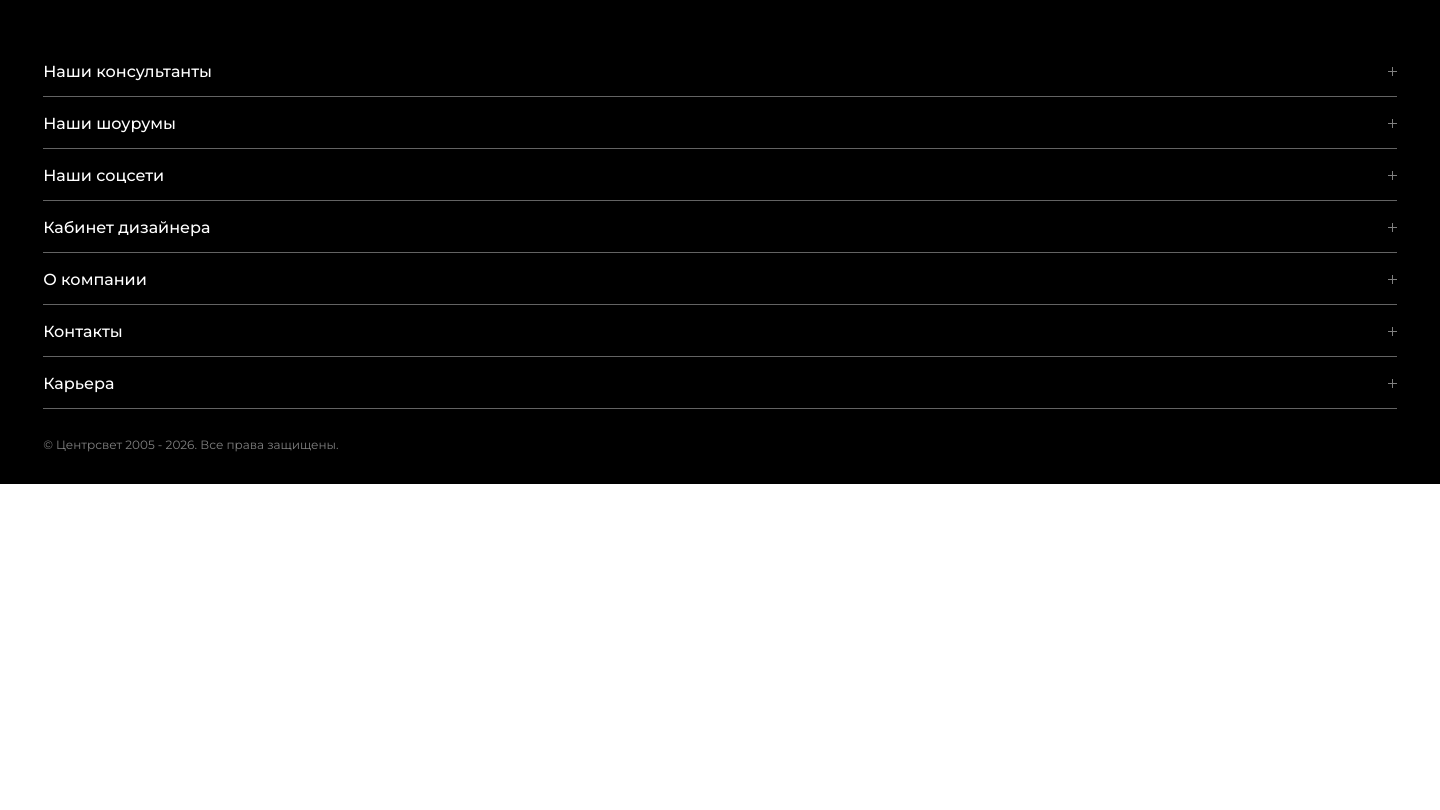
Test: SiteFooter › в разделе «Наши шоурумы» после раскрытия виден пункт «Москва»
The image size is (1440, 810).
Click the heading "Наши шоурумы": (110, 124) [43,114,176,133]
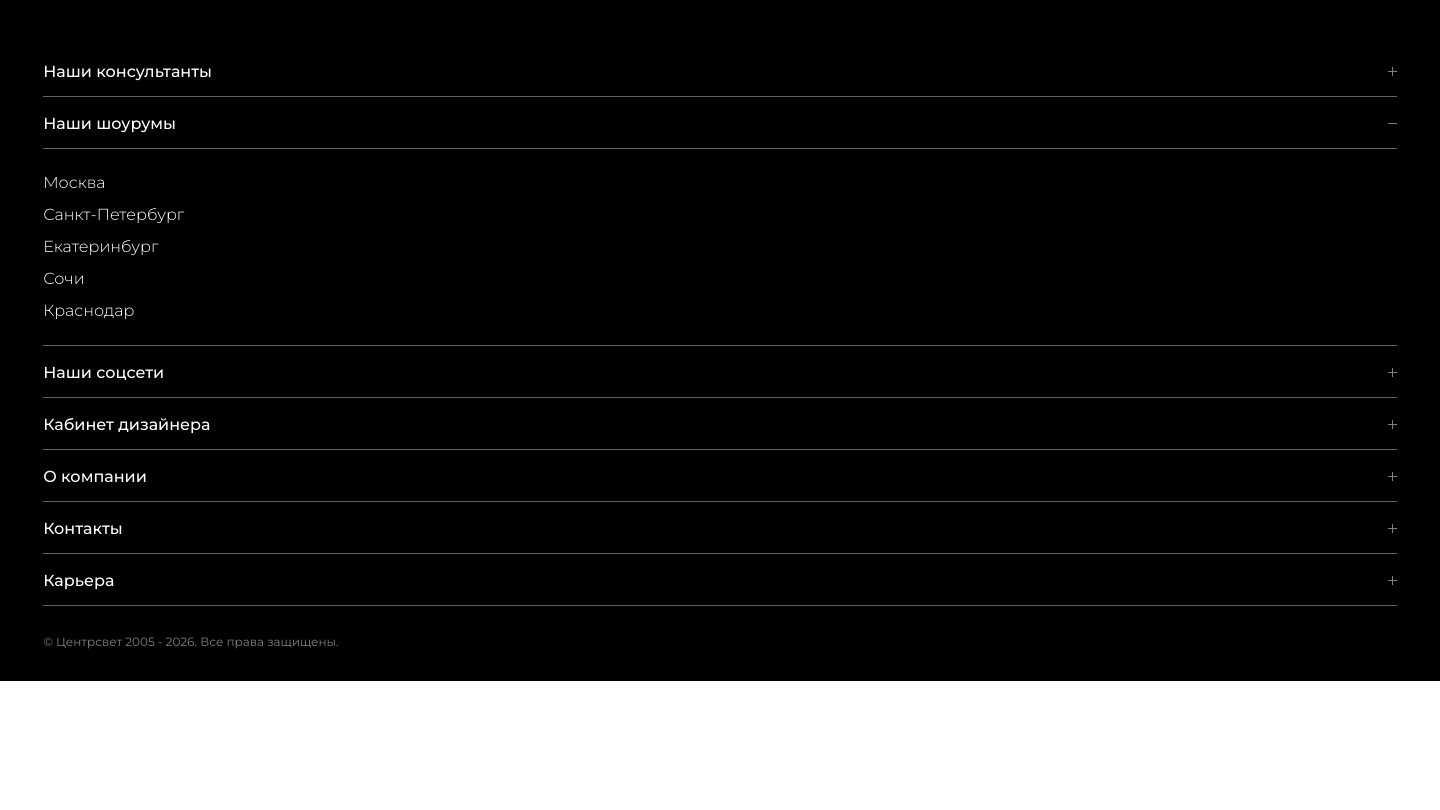
Expected: the link "Москва" is shown, [43,173,106,192]
